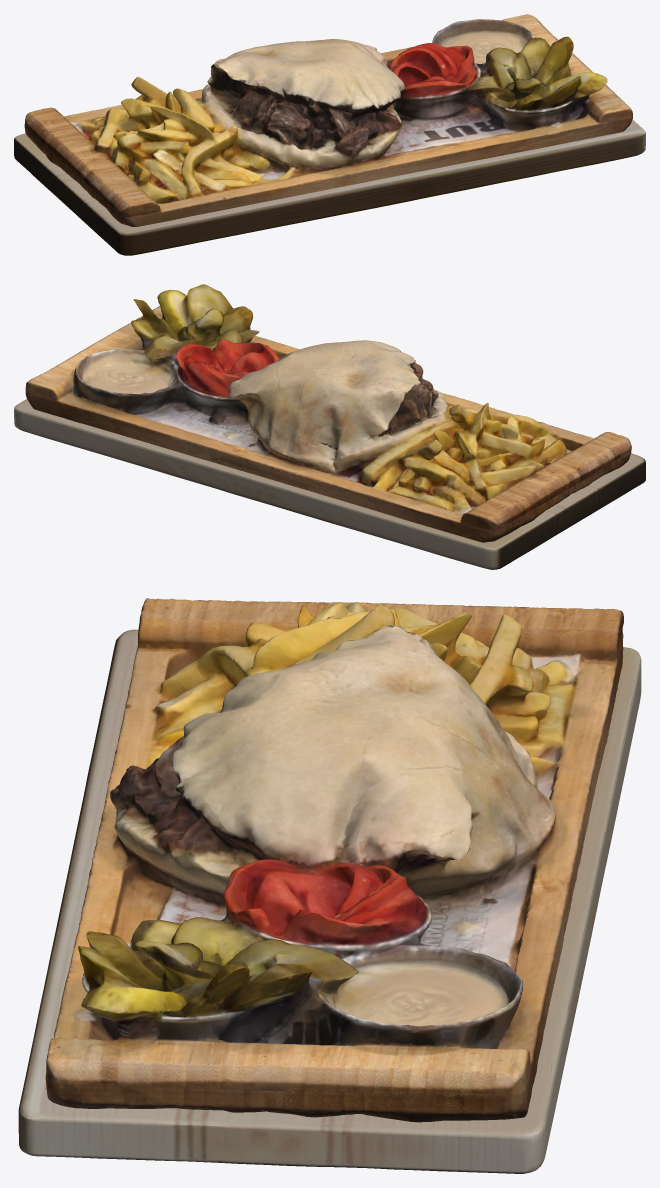
Rendered from Beef.Shawerma.Platter.glb.
3 views of the same model, one above another, from view 1: azimuth 30°, elevation 25°; view 2: azimuth 150°, elevation 25°; view 3: azimuth 270°, elevation 25° (orthographic). The views are drawn at different scales.
Parts seen in each view (by area): view 1: /Root/Scenes/Scene/Object_37/Object_38/Submesh_0, /Root/Scenes/Scene/Object_37/Object_42/Object_43/Submesh_0; view 2: /Root/Scenes/Scene/Object_37/Object_38/Submesh_0, /Root/Scenes/Scene/Object_37/Object_42/Object_43/Submesh_0; view 3: /Root/Scenes/Scene/Object_37/Object_38/Submesh_0, /Root/Scenes/Scene/Object_37/Object_42/Object_43/Submesh_0.
Boxes of the visible parts, <box> form: /Root/Scenes/Scene/Object_37/Object_38/Submesh_0: <box>24,14,632,226</box>; /Root/Scenes/Scene/Object_37/Object_42/Object_43/Submesh_0: <box>14,120,645,255</box>; /Root/Scenes/Scene/Object_37/Object_38/Submesh_0: <box>25,284,631,542</box>; /Root/Scenes/Scene/Object_37/Object_42/Object_43/Submesh_0: <box>14,399,645,569</box>; /Root/Scenes/Scene/Object_37/Object_38/Submesh_0: <box>45,598,623,1122</box>; /Root/Scenes/Scene/Object_37/Object_42/Object_43/Submesh_0: <box>18,629,641,1173</box>.
Size of the model in its own units: 0.44 by 0.0853 by 0.2281.
Materials: 2 (2 with a texture image).
